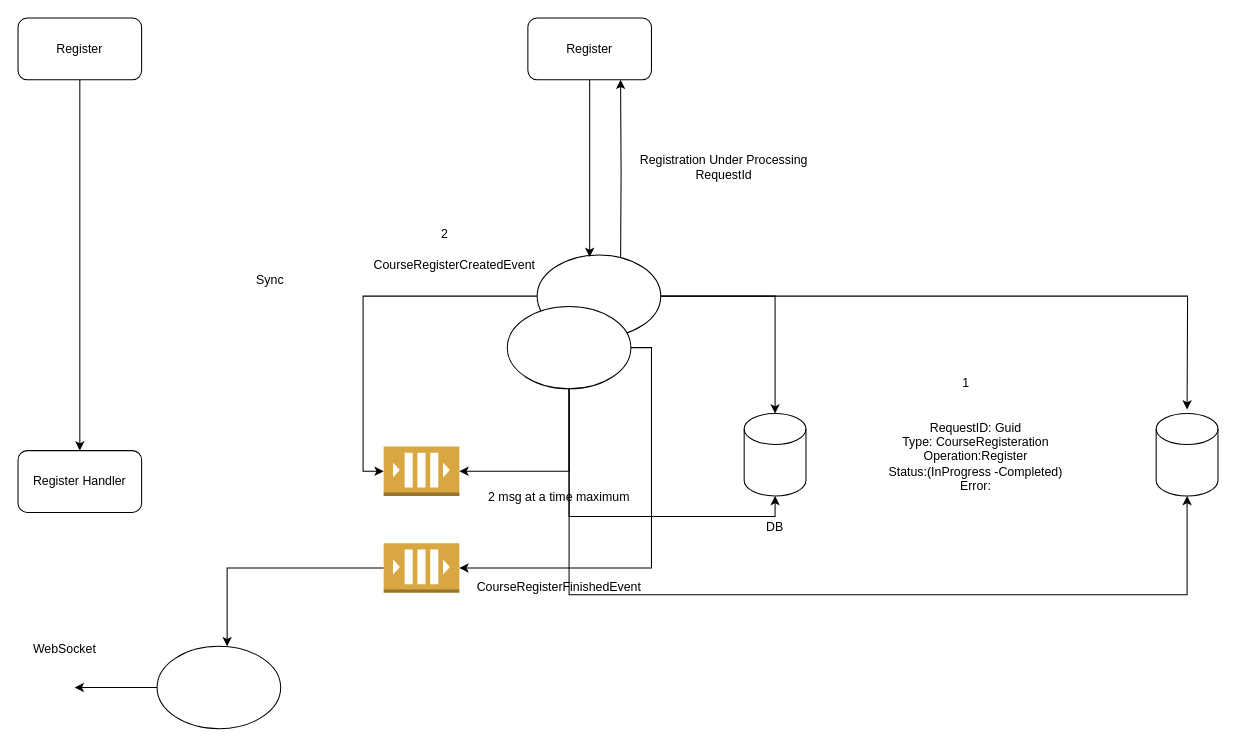
Some shapes in this 1236 by 747 pixel diagram are drawn without their labels. The shapes that lost their labels are listed below. From the top down, each one's box as (x1, y1, x2, y2) in pixels, then its label:
(506, 305, 631, 389): CourseRegisterCreatedEventConsumer
(156, 645, 281, 729): notification service
